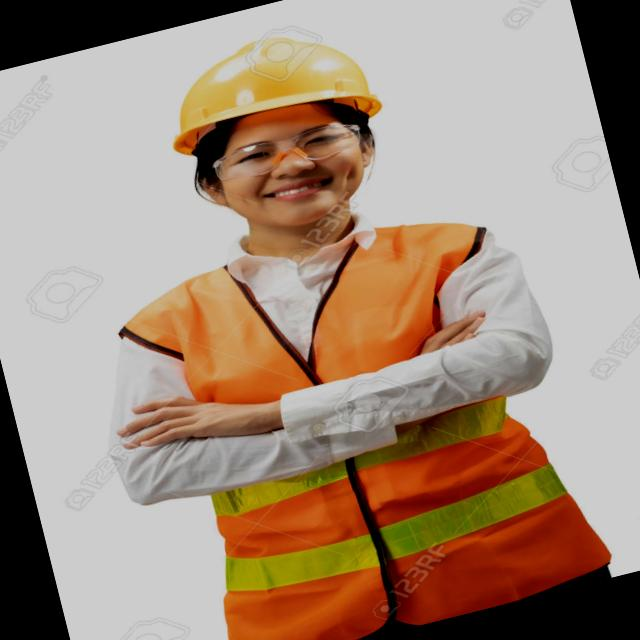goggles: (188, 105, 390, 195)
helmet: (130, 1, 405, 160)
vest: (85, 158, 638, 640)
